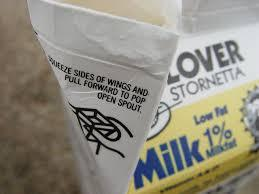cardboard: (27, 0, 259, 194)
